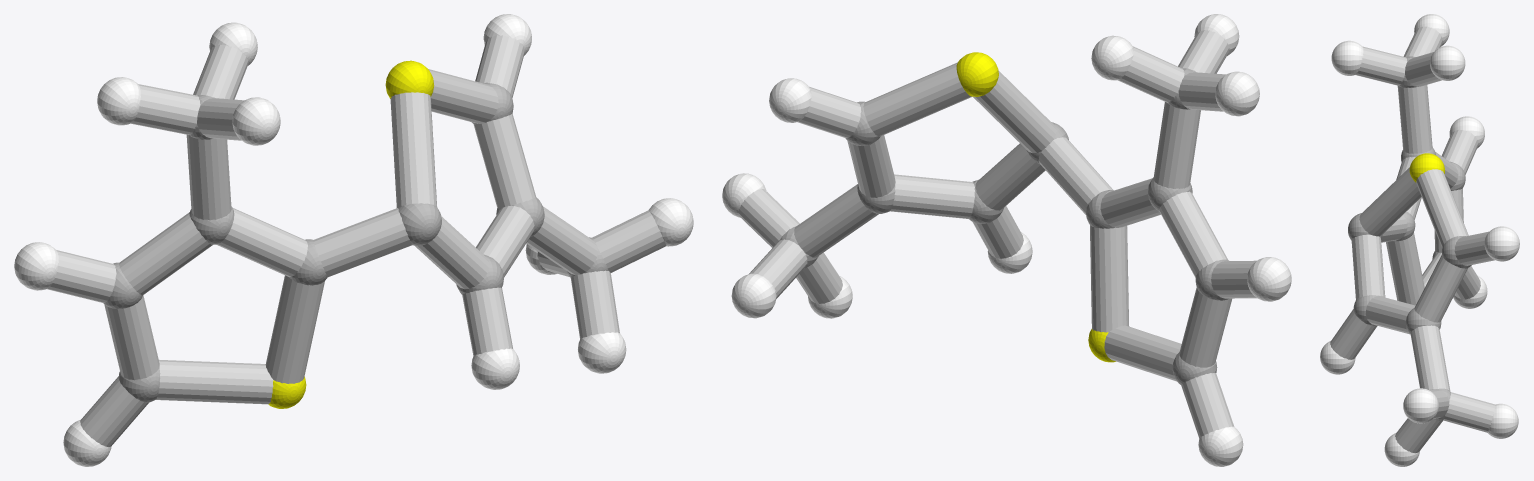
The model's file is Methylthiophene_Phi_60_Theta_340_Methylthiophene.glb.
The picture shows the model from 3 angles, left to right: view 1: azimuth 30°, elevation 25°; view 2: azimuth 150°, elevation 25°; view 3: azimuth 270°, elevation 25°; orthographic projection. The views are drawn at different scales.
Parts seen in each view (by area): view 1: grp7965, grp3621, grp1, grp7241; view 2: grp7965, grp3621, grp1, grp7241; view 3: grp7965, grp3621, grp1, grp7241.
Part boxes in pixels (<box>): grp7965: <box>47,35,666,447</box>; grp3621: <box>14,14,693,466</box>; grp1: <box>103,82,608,402</box>; grp7241: <box>268,60,434,408</box>; grp7965: <box>738,30,1256,438</box>; grp3621: <box>722,14,1291,466</box>; grp1: <box>779,68,1228,384</box>; grp7241: <box>956,52,1115,362</box>; grp7965: <box>1330,26,1495,453</box>; grp3621: <box>1320,14,1519,466</box>; grp1: <box>1348,56,1471,420</box>; grp7241: <box>1409,153,1444,182</box>.
Size of the model in its own units: 9.14 by 5.71 by 3.37.
